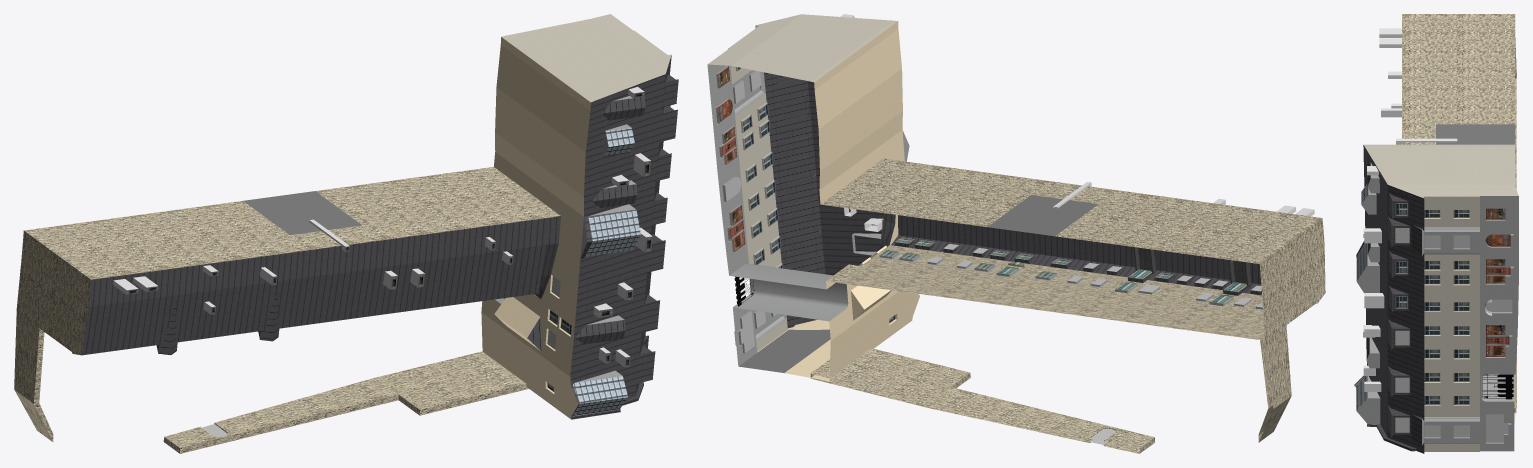
File: Myyrivahe_31.obj
3 renders of one model, left to right at view 1: azimuth 30°, elevation 25°; view 2: azimuth 150°, elevation 25°; view 3: azimuth 270°, elevation 25°, orthographic. The views are drawn at different scales.
Parts seen in each view (by area): view 1: Myyrivahe_31; view 2: Myyrivahe_31; view 3: Myyrivahe_31.
Part boxes in pixels (x1,y1,x2,y2): Myyrivahe_31: (14, 14, 678, 453); Myyrivahe_31: (707, 14, 1325, 453); Myyrivahe_31: (1354, 14, 1518, 453).
Size of the model in its own units: 65.29 by 33.42 by 18.23.
